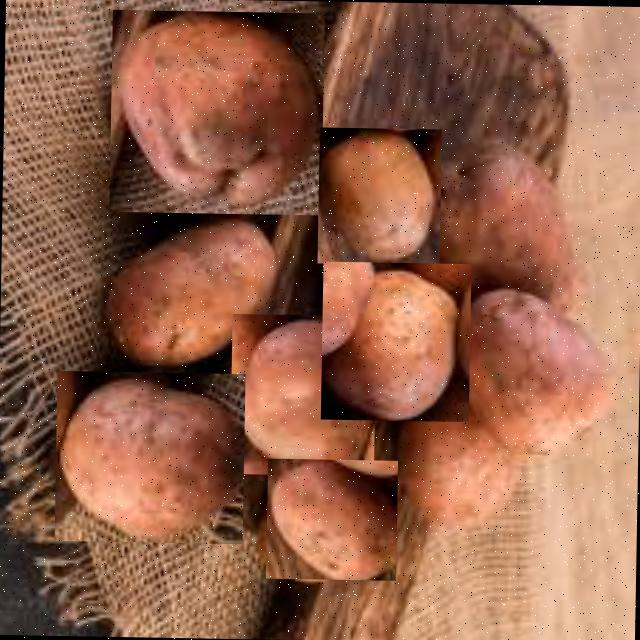Diseased-fungal potato: (109, 8, 324, 214), (444, 280, 628, 460), (54, 370, 245, 542), (99, 206, 282, 373), (320, 260, 471, 421), (229, 312, 376, 474), (317, 126, 441, 264), (266, 457, 398, 579)
